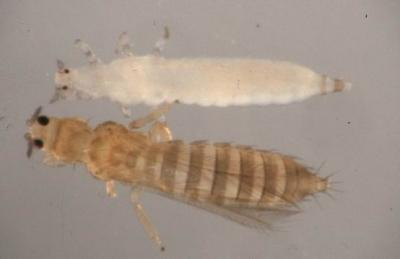Thrips: (16, 106, 339, 252), (43, 36, 364, 118)
